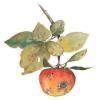Apple Scab Leaf: (19, 40, 50, 79), (56, 28, 93, 54), (29, 21, 52, 44), (44, 39, 64, 58), (67, 46, 89, 63), (49, 18, 64, 40)
